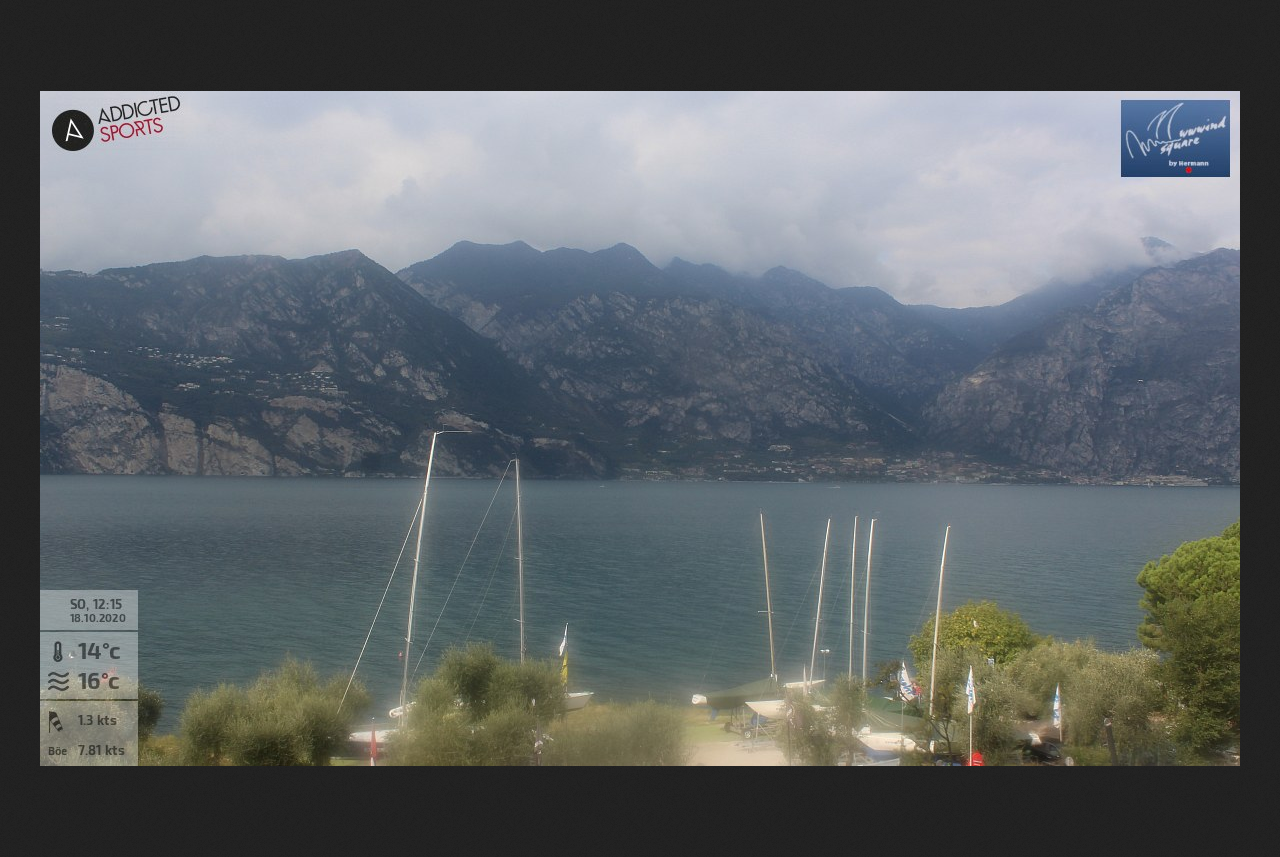maybe: (895, 658, 916, 705)
no: (961, 661, 980, 719), (1048, 677, 1066, 738), (555, 622, 572, 659)
